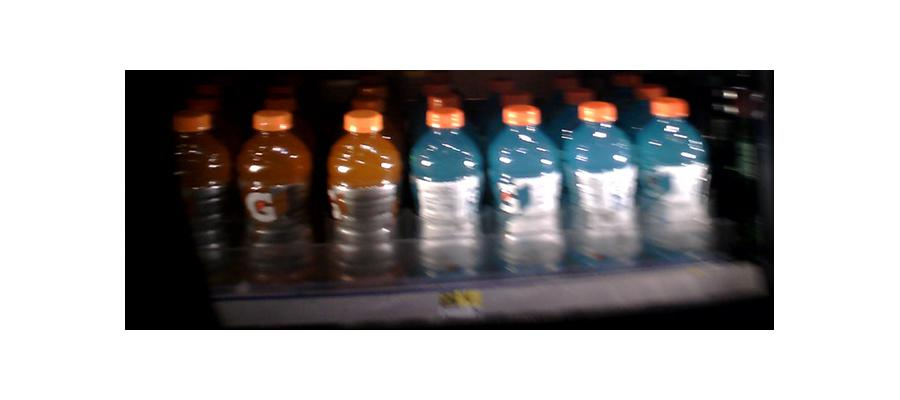bottle: (239, 108, 315, 291), (324, 109, 400, 288), (487, 104, 562, 276), (412, 101, 482, 280), (564, 102, 638, 270), (169, 115, 234, 294), (638, 105, 711, 259)
